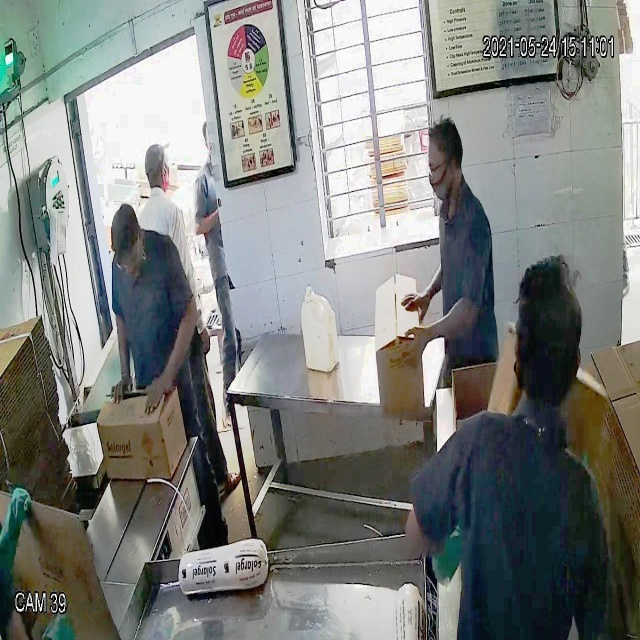Gafas: (424, 156, 459, 180)
